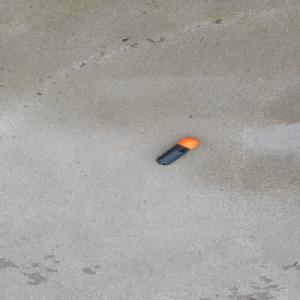PlasticPart: (154, 137, 199, 165)
